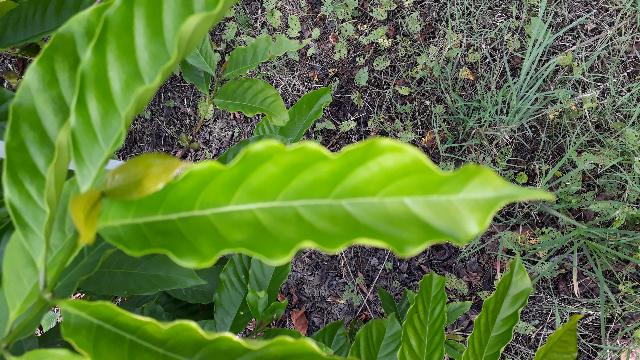healthy: (96, 140, 556, 267)
